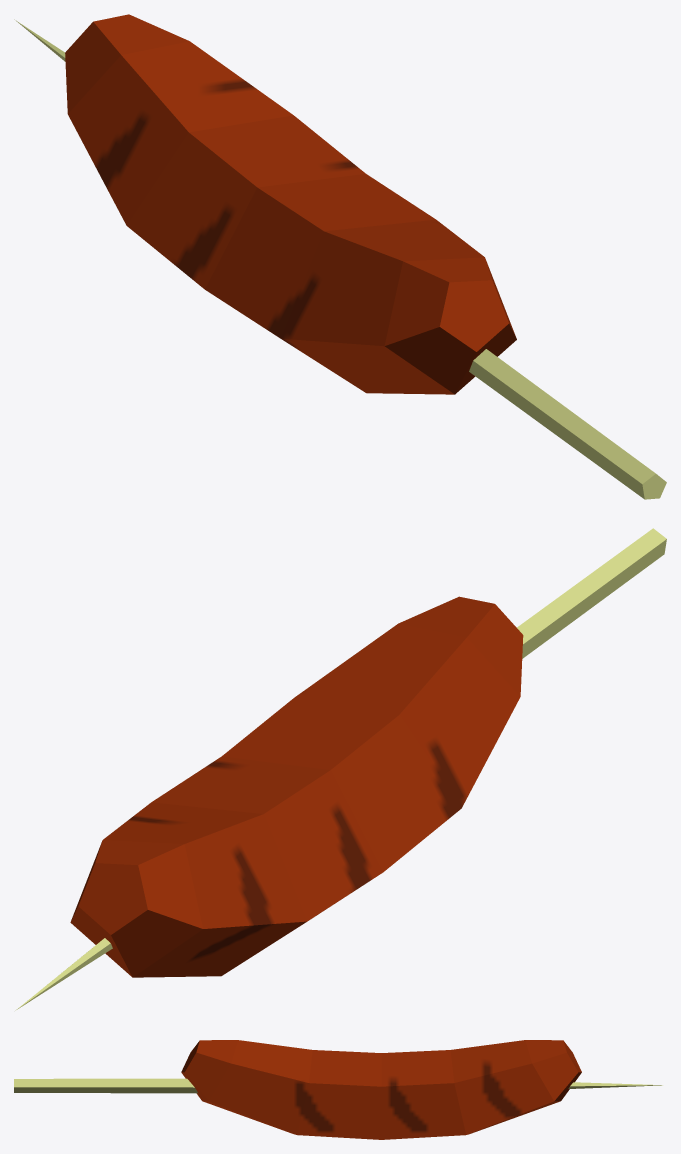
File: SausageWithStick.Ani (1).fbx
The picture shows the model from 3 angles, top to bottom: view 1: azimuth 30°, elevation 25°; view 2: azimuth 150°, elevation 25°; view 3: azimuth 270°, elevation 25°; orthographic projection. The views are drawn at different scales.
Visible parts, largest first — view 1: SauStick; view 2: SauStick; view 3: SauStick.
Boxes of the visible parts, x1,y1,x2,y2 form: SauStick: (14,14,666,499); SauStick: (15,528,666,1010); SauStick: (14,1040,662,1139).
Size of the model in its own units: 47.43 by 48.49 by 297.
Materials: 2 (1 with a texture image).
